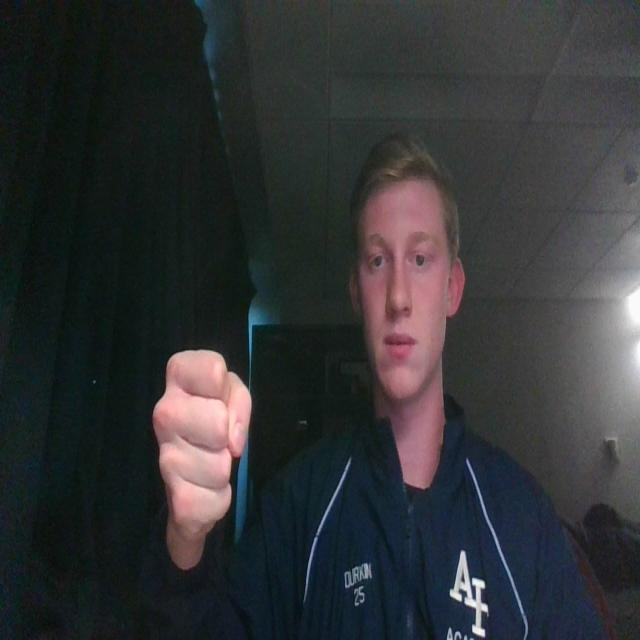rock: (143, 329, 262, 574)
